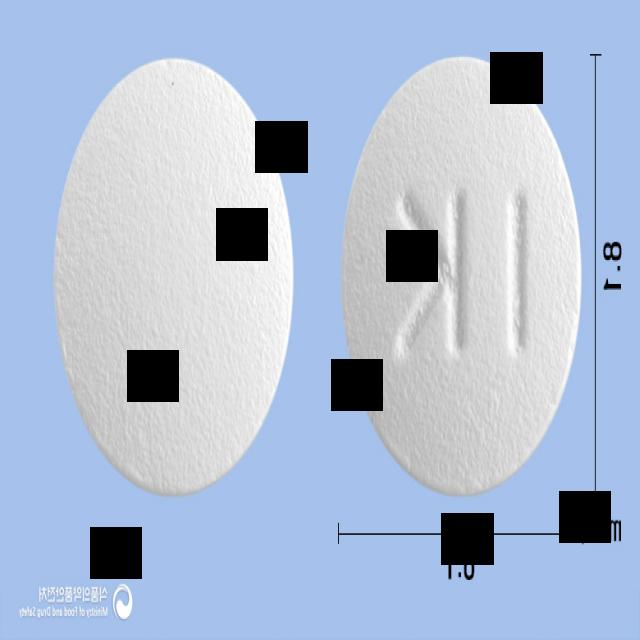Lesacra: (340, 51, 583, 497), (54, 55, 295, 494)
